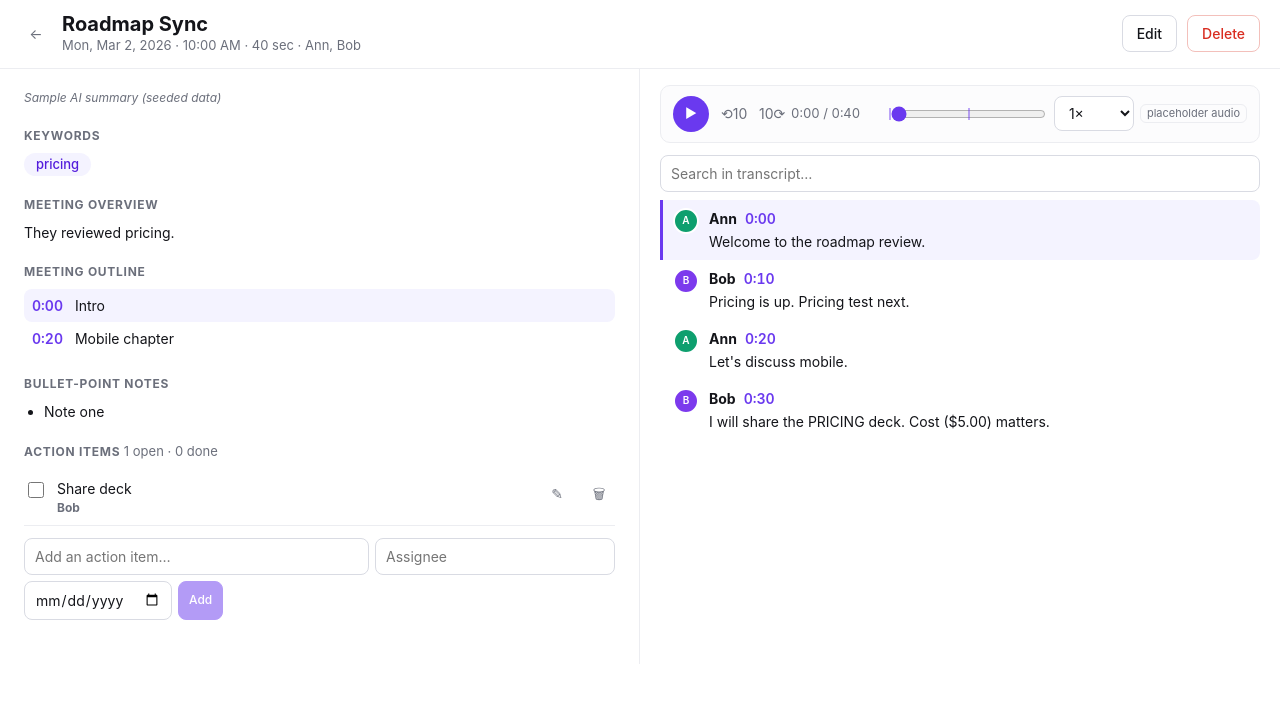
Scenario: action items › completes, adds, edits and deletes
Expected: the heading "Roadmap Sync" is shown, [62, 12, 208, 36]
Click the checkbox at {"x": 36, "y": 490}, box [28, 482, 44, 498]
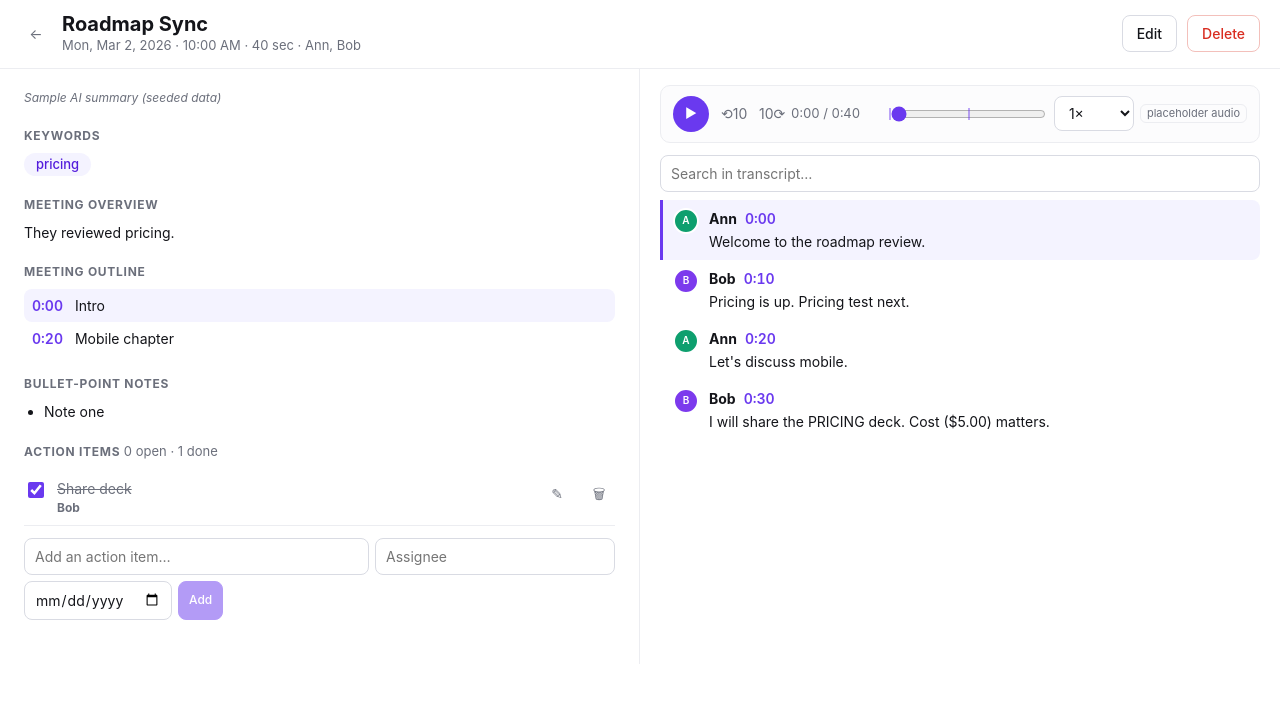
Type "Write docs" into the field named "New action item" at {"x": 196, "y": 556}, box [24, 538, 369, 574]
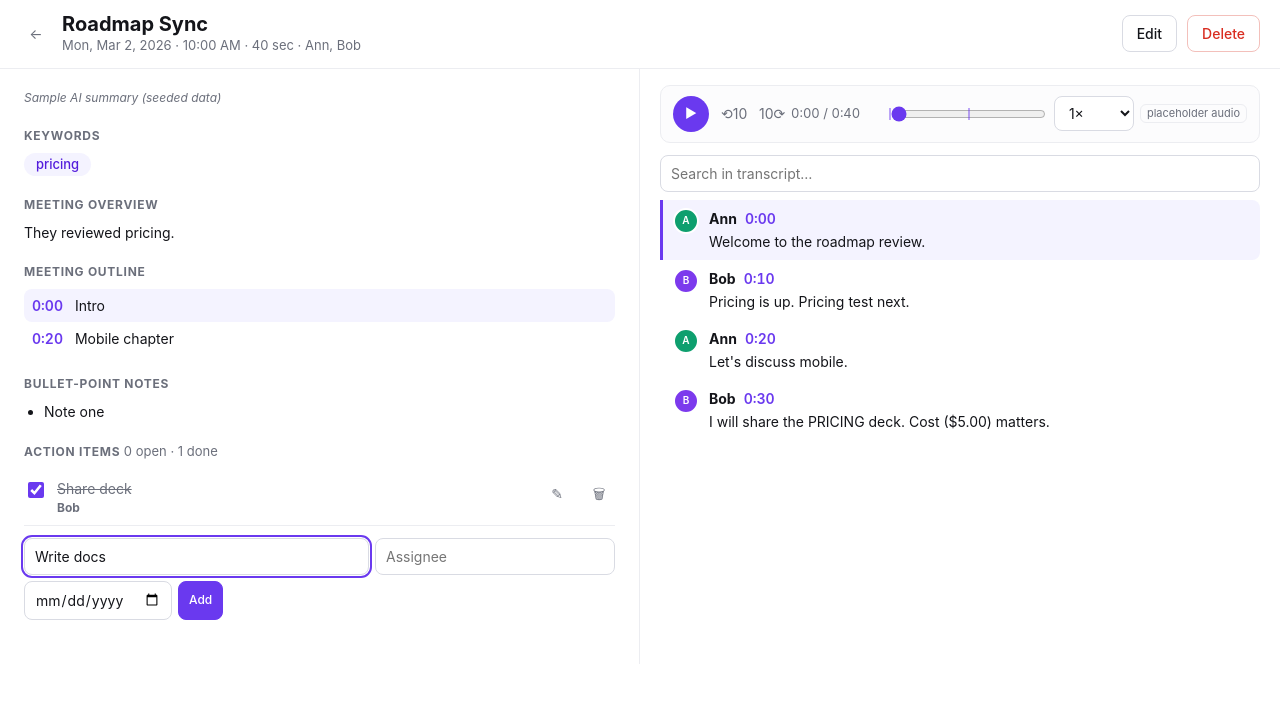
Click the button "Add" at {"x": 201, "y": 600}, box [178, 580, 223, 620]
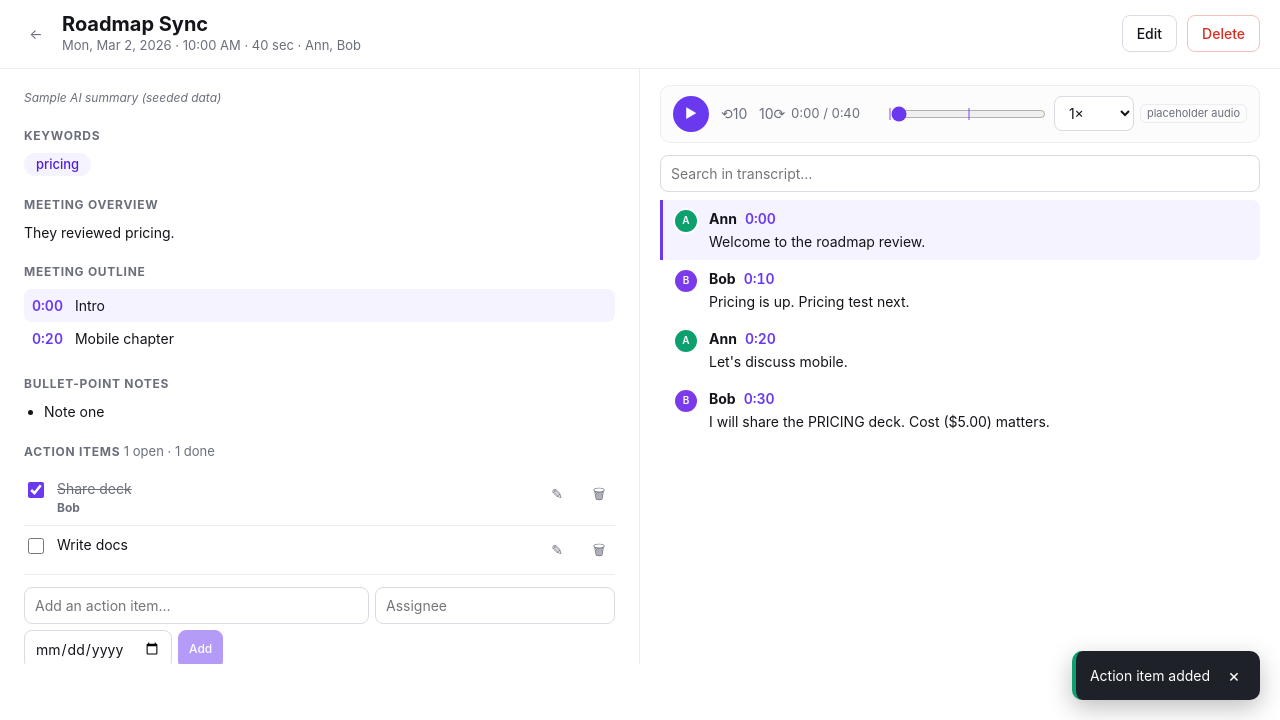
Expected: the text "Write docs" is shown, [57, 536, 128, 552]
Click the button named "Edit action item" at {"x": 557, "y": 494}, box [541, 478, 573, 510]
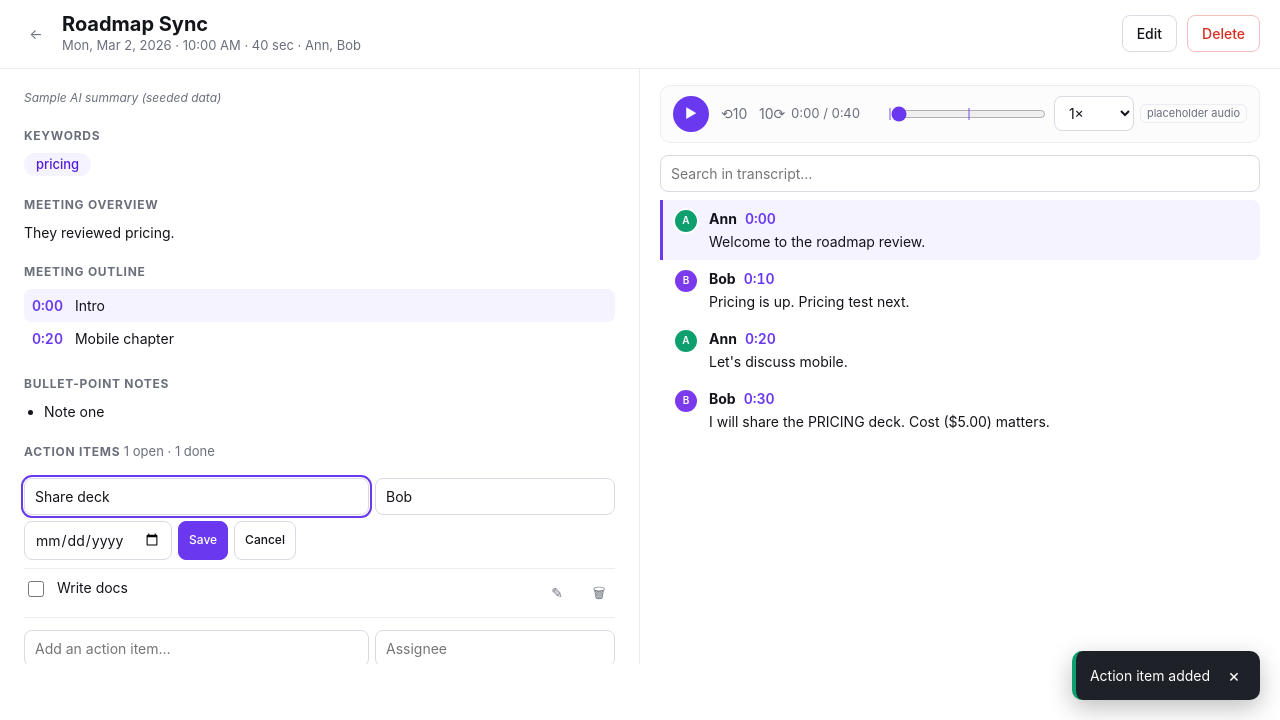
Replace the text in the field named "Action item text" with "Share the deck" at {"x": 196, "y": 496}, box [24, 478, 369, 514]
Click the button "Save" at {"x": 203, "y": 540}, box [178, 520, 228, 560]
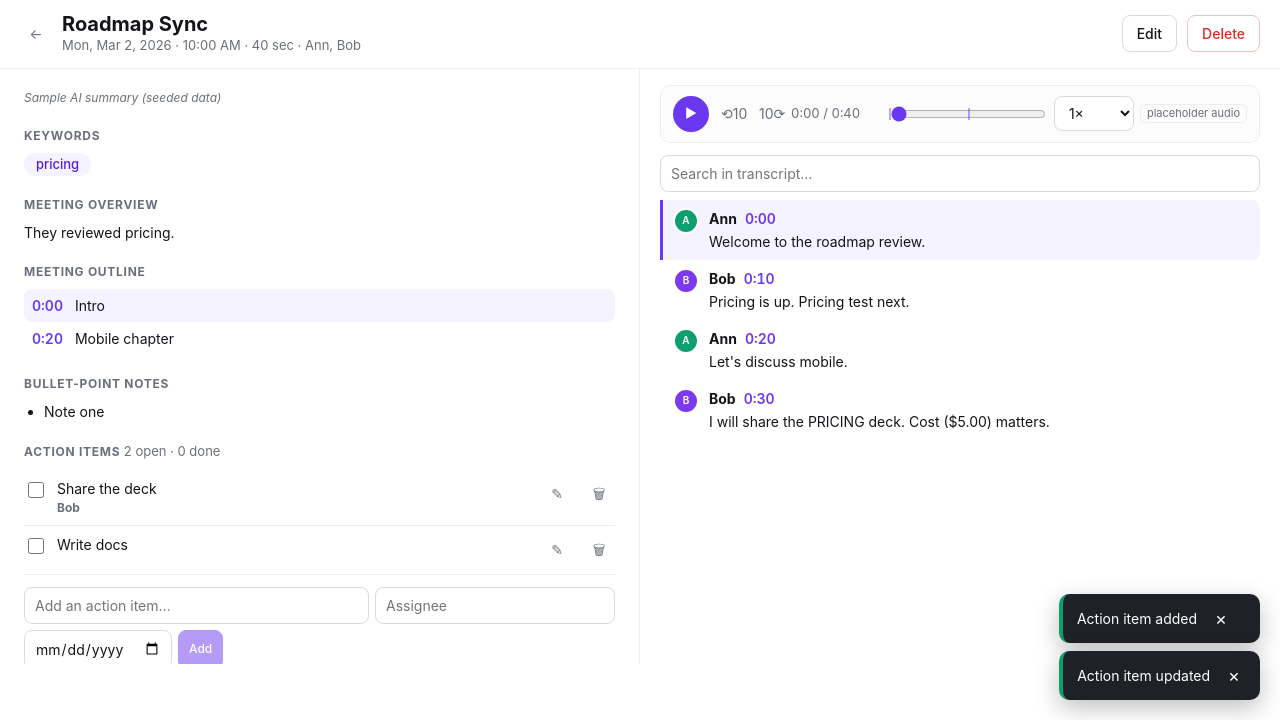
Expected: the text "Share the deck" is shown, [57, 480, 157, 496]
Click the button named "Delete action item" at {"x": 599, "y": 550}, box [583, 534, 615, 566]
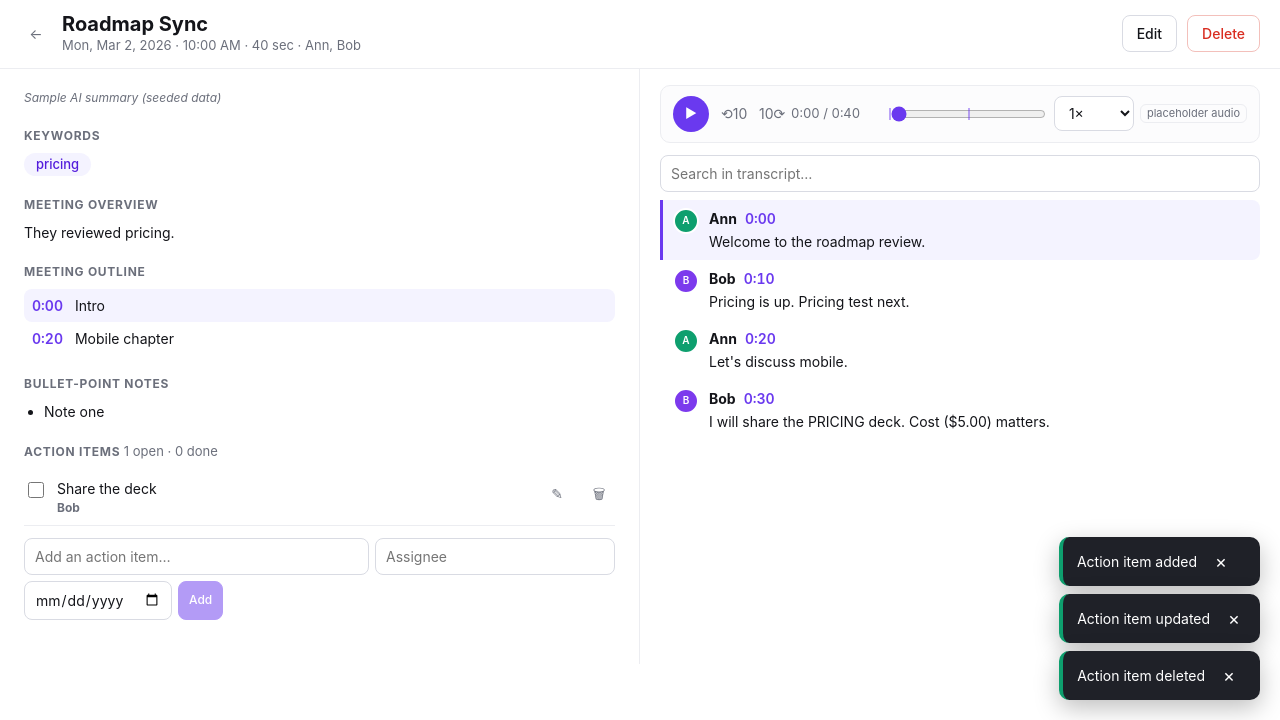
Expected: the text "Write docs" is gone
